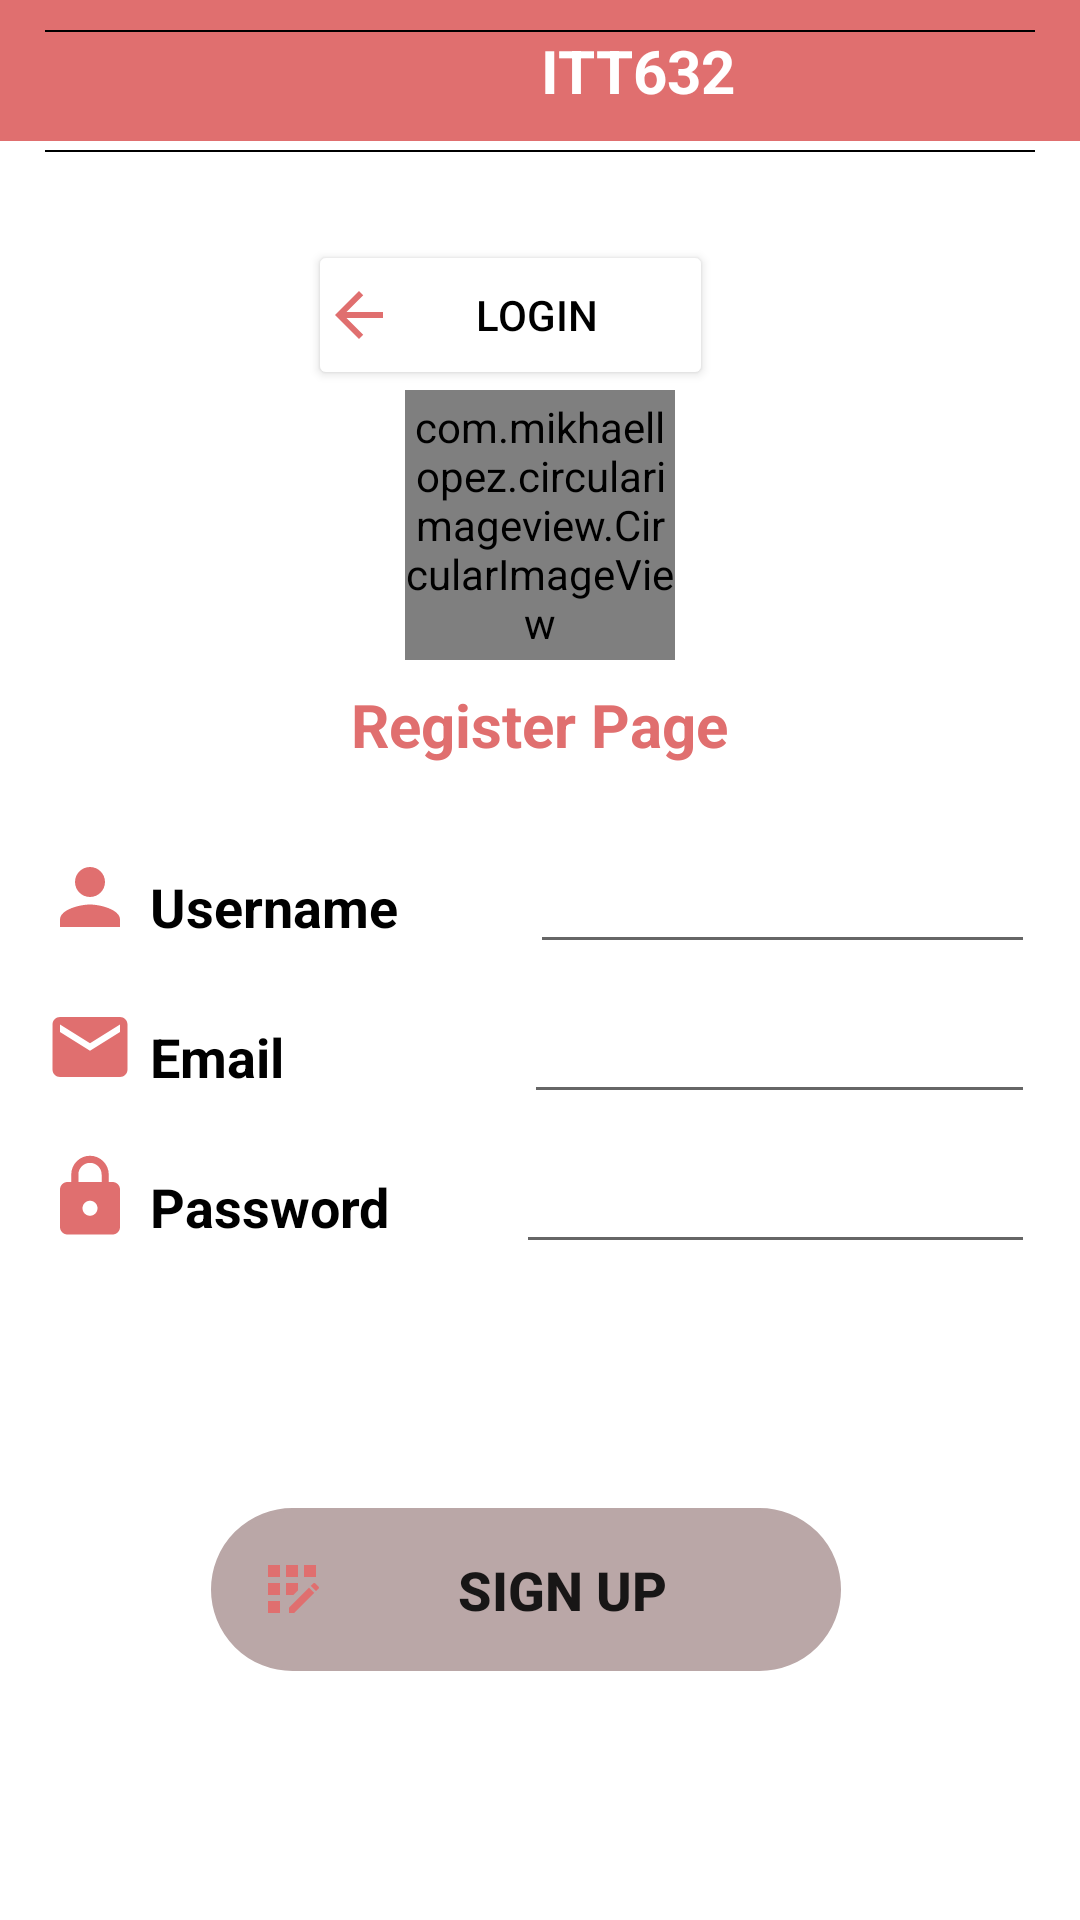

Named icons in this screenshot (1080*1920) and their centers, (x,y):
lock: (90,1195)
person: (90,897)
